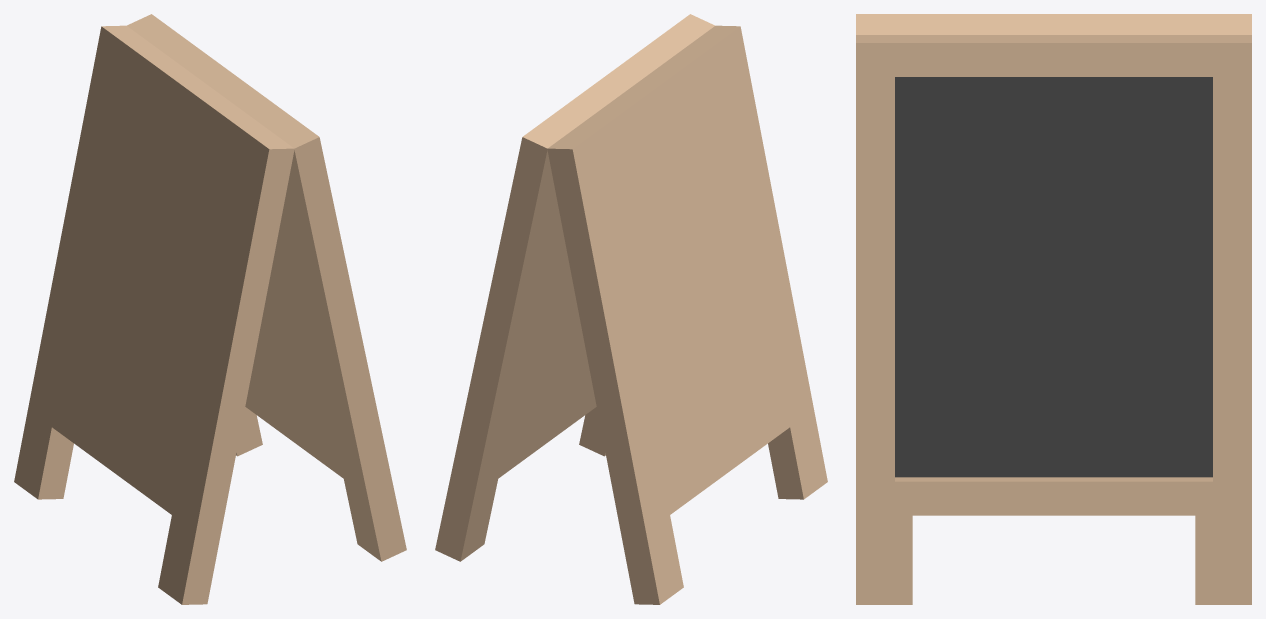
File: menusign.glb
The picture shows the model from 3 angles, left to right: view 1: azimuth 30°, elevation 25°; view 2: azimuth 150°, elevation 25°; view 3: azimuth 270°, elevation 25°; orthographic projection. The views are drawn at different scales.
Visible parts, largest first — view 1: sign; view 2: sign; view 3: sign.
Boxes of the visible parts, <box> form: sign: <box>14,14,406,604</box>; sign: <box>435,14,827,604</box>; sign: <box>856,14,1251,604</box>.
Bounding box in the file's own units: 0.7639 × 1.43 × 0.9883.
